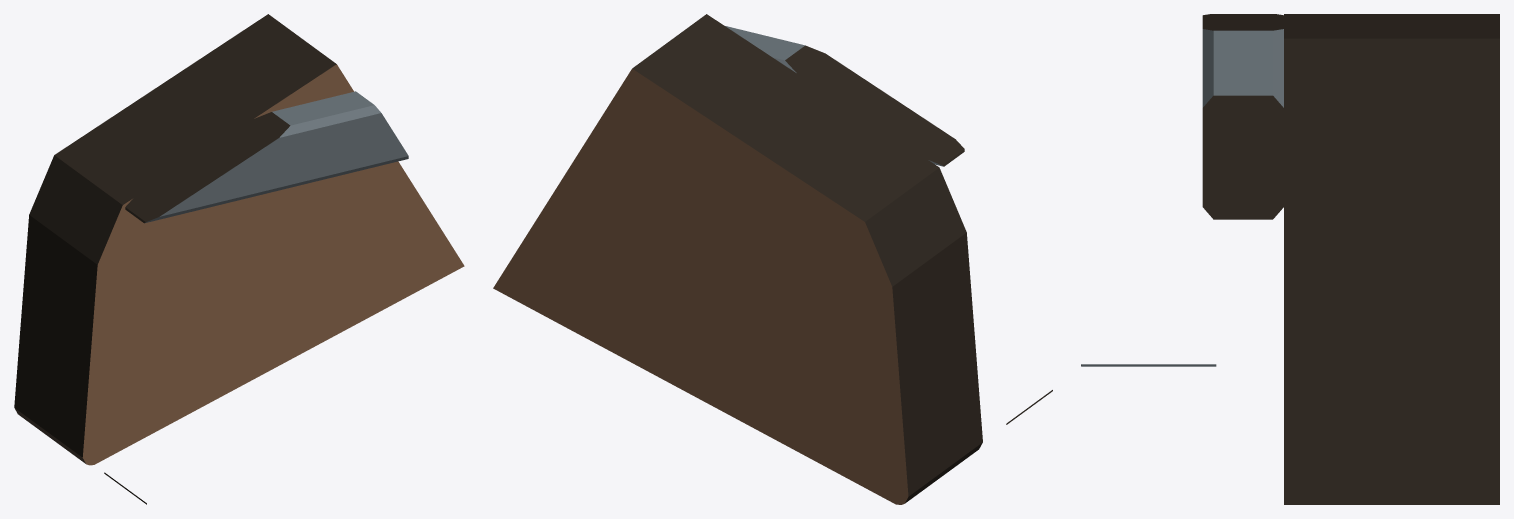
Rendered from SM_DoorShard_01_11.fbx.
3 renders of one model, left to right at view 1: azimuth 30°, elevation 25°; view 2: azimuth 150°, elevation 25°; view 3: azimuth 270°, elevation 25°, orthographic. The views are drawn at different scales.
Visible parts, largest first — view 1: SM_DoorShard_01_11; view 2: SM_DoorShard_01_11; view 3: SM_DoorShard_01_11.
Part boxes in pixels (left/top/right/bottom): SM_DoorShard_01_11: left=14, top=14, right=464, bottom=504; SM_DoorShard_01_11: left=493, top=14, right=1052, bottom=504; SM_DoorShard_01_11: left=1081, top=14, right=1499, bottom=504.
Size of the model in its own units: 51.5 by 31.01 by 44.02.
